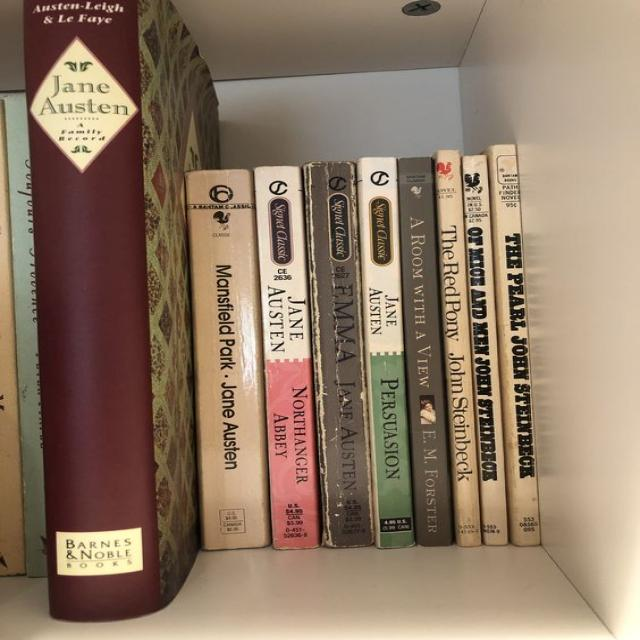book: (24, 0, 159, 621), (183, 169, 267, 551), (306, 163, 376, 547), (255, 165, 321, 550), (357, 158, 417, 547), (397, 156, 454, 548), (490, 145, 543, 545), (438, 151, 481, 547), (468, 157, 511, 545)
